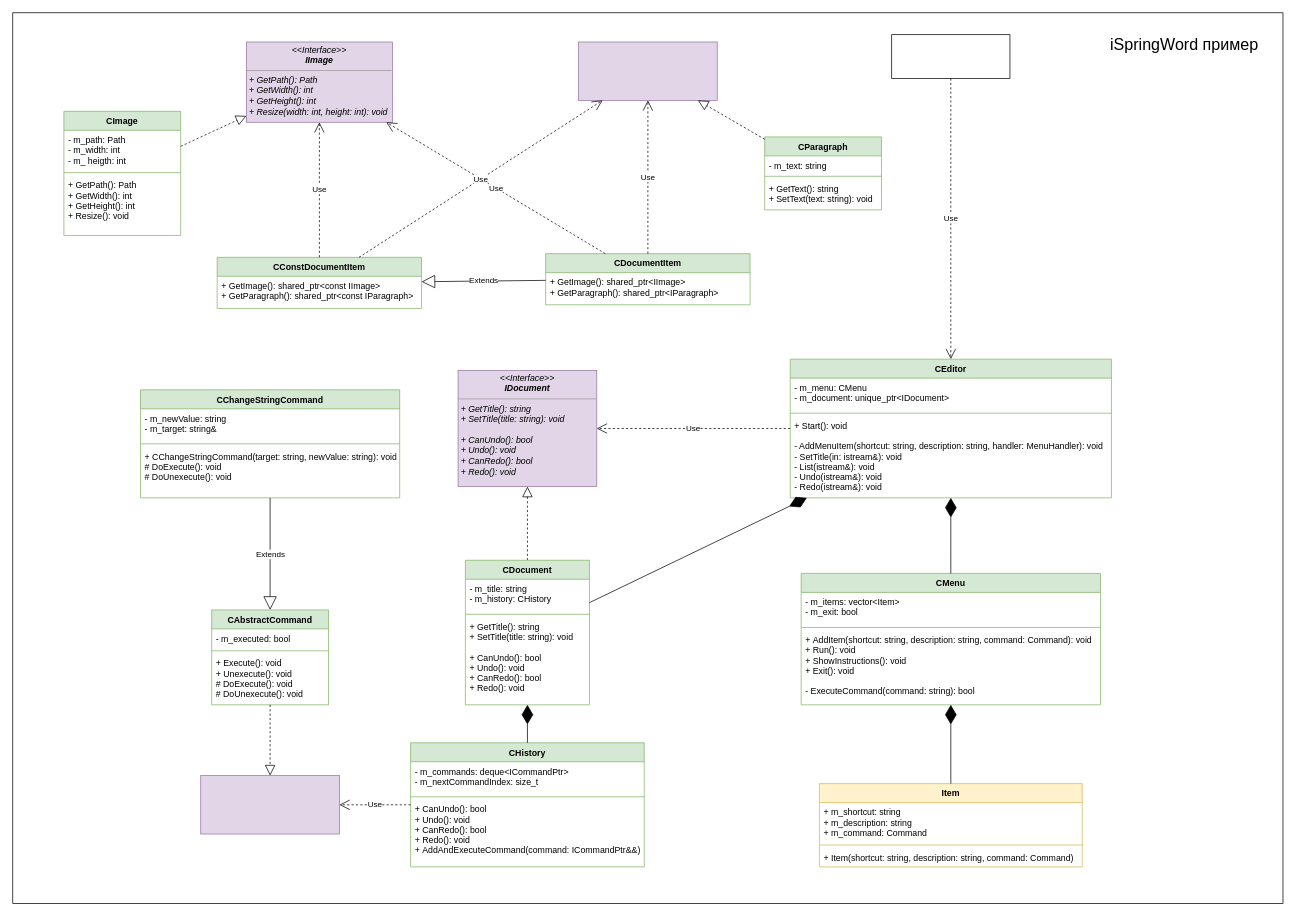
Image size: 1296x916. Some labels were removed from this diagram. The shapes that lost their labels are listed below. From the top down, each one's centre as x and y in pixels, then its label:
[647,70]: <<Interface>> IParagraph + GetText(): string + SetText(text: string): void
[950,56]: Client
[269,804]: <<Interface>> ICommand + Execute(): void + Unexecute(): void
